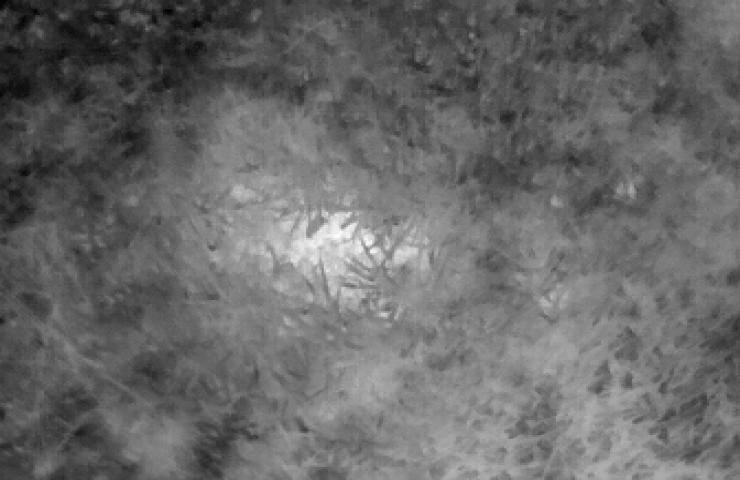landmines: (229, 181, 440, 320)
